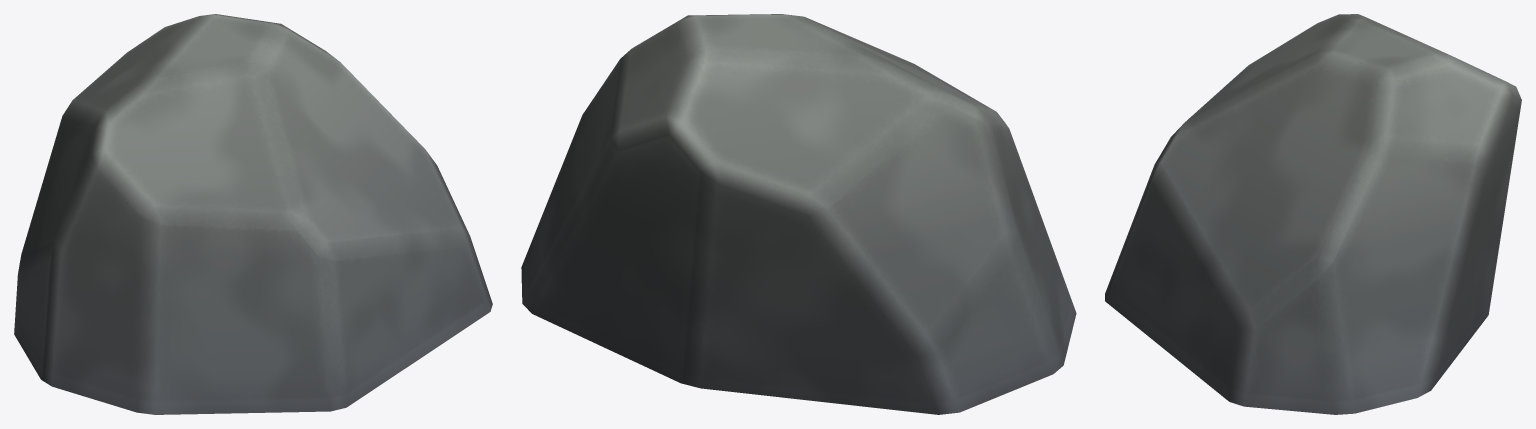
Rendered from boulder_1.glb.
The picture shows the model from 3 angles, left to right: view 1: azimuth 30°, elevation 25°; view 2: azimuth 150°, elevation 25°; view 3: azimuth 270°, elevation 25°; orthographic projection. The views are drawn at different scales.
Parts seen in each view (by area): view 1: boulder_1; view 2: boulder_1; view 3: boulder_1.
Boxes of the visible parts, bbox=[...] form: boulder_1: bbox=[14, 14, 492, 414]; boulder_1: bbox=[521, 14, 1076, 414]; boulder_1: bbox=[1105, 14, 1521, 414].
Bounding box in the file's own units: 1.2 × 0.7 × 1.
Materials: 1 (1 with a texture image).
